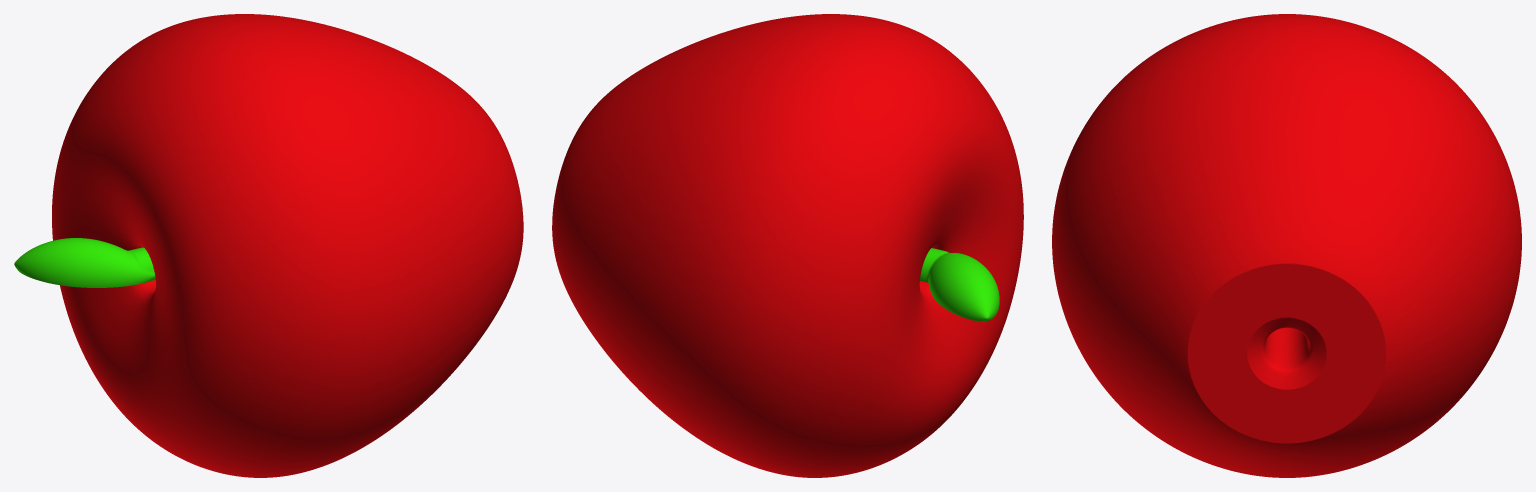
Rendered from appul.fbx.
The picture shows the model from 3 angles, left to right: view 1: azimuth 30°, elevation 25°; view 2: azimuth 150°, elevation 25°; view 3: azimuth 270°, elevation 25°; orthographic projection.
Parts seen in each view (by area): view 1: appleStem_040; view 2: appleStem_040; view 3: appleStem_040.
Part boxes in pixels (x1,y1,x2,y2): appleStem_040: [14, 14, 523, 477]; appleStem_040: [552, 14, 1023, 477]; appleStem_040: [1052, 14, 1521, 477].
Size of the model in its own units: 4387 by 4185 by 4185.
